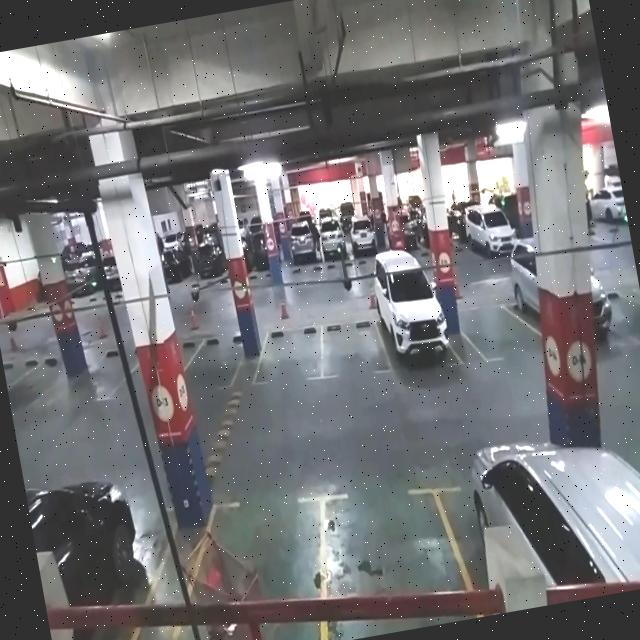empty: (306, 472, 472, 614), (456, 294, 532, 366), (253, 320, 325, 390), (318, 314, 391, 382), (186, 332, 251, 394)
occupied: (374, 279, 460, 375)
